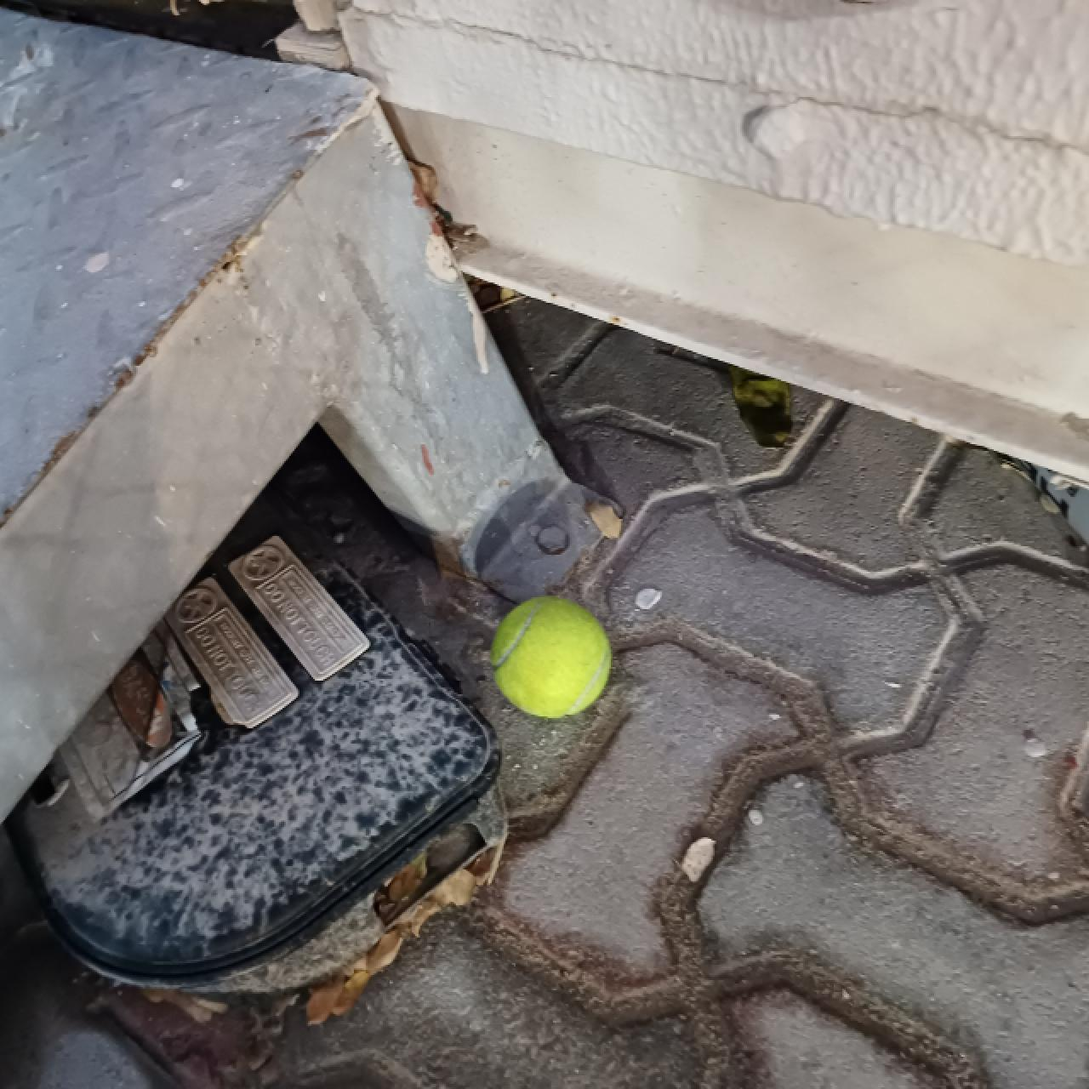tennis-ball: (490, 595, 612, 721)
